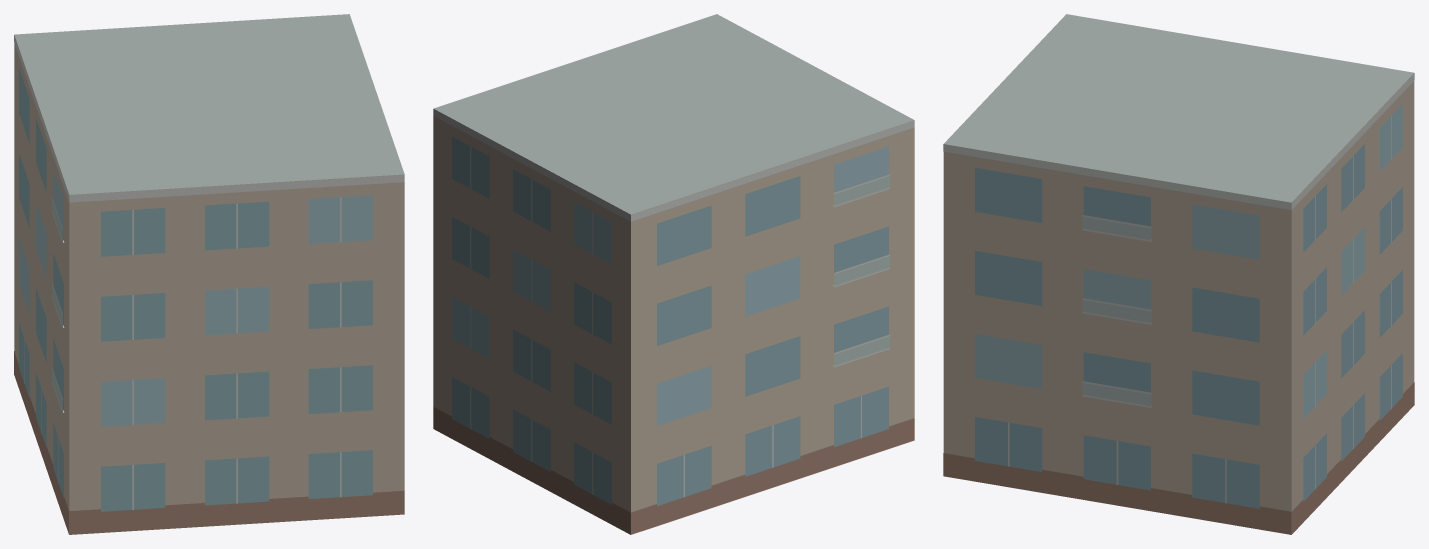
File: survey-upis-32653923.glb
3 renders of one model, left to right at view 1: azimuth 30°, elevation 25°; view 2: azimuth 150°, elevation 25°; view 3: azimuth 270°, elevation 25°, orthographic. The views are drawn at different scales.
Parts seen in each view (by area): view 1: survey-upis-32653923.tmp; view 2: survey-upis-32653923.tmp; view 3: survey-upis-32653923.tmp.
Boxes of the visible parts, left/top/right/bottom form: survey-upis-32653923.tmp: left=14, top=14, right=404, bottom=534; survey-upis-32653923.tmp: left=433, top=14, right=914, bottom=534; survey-upis-32653923.tmp: left=943, top=14, right=1414, bottom=534.
Size of the model in its own units: 13.1 by 10.75 by 13.82.
